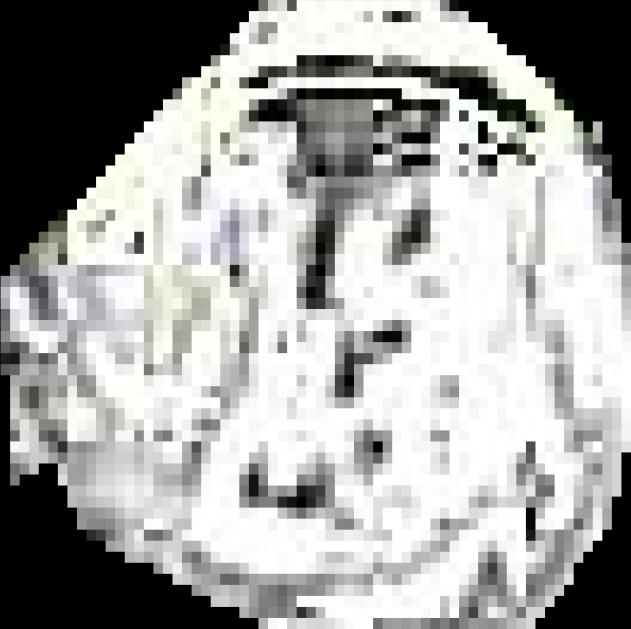tumor_good_chance: (1, 0, 631, 629)
